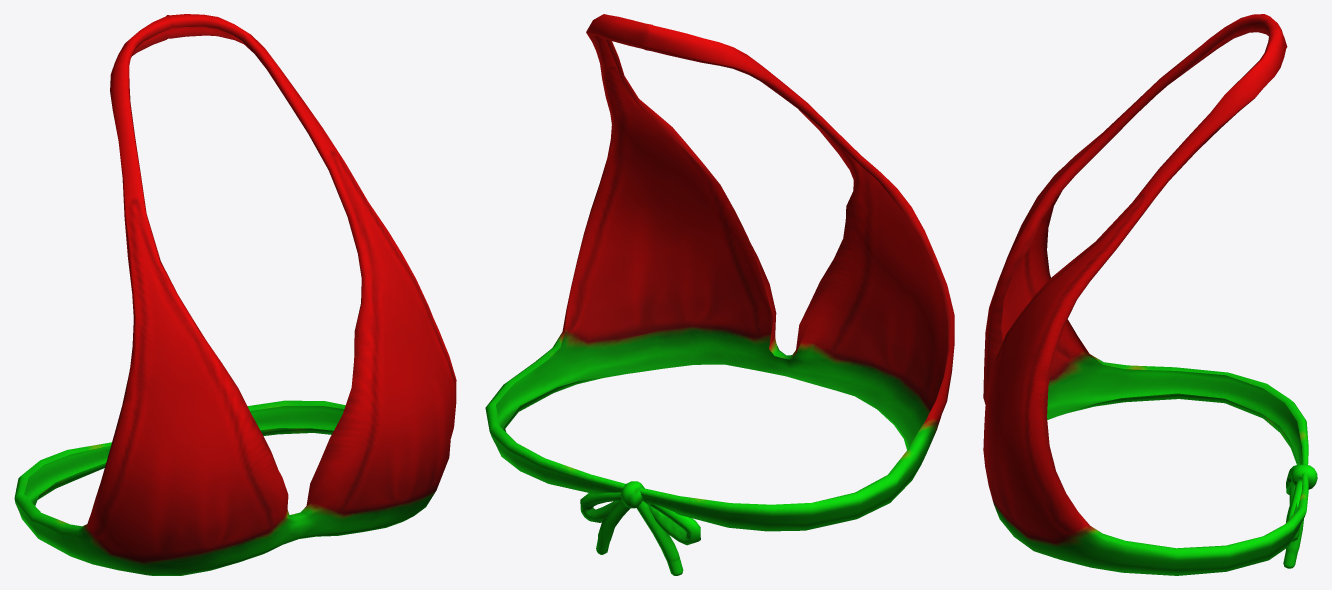
File: Top_Bakini_ChestFit.obj
3 renders of one model, left to right at view 1: azimuth 30°, elevation 25°; view 2: azimuth 150°, elevation 25°; view 3: azimuth 270°, elevation 25°, orthographic. The views are drawn at different scales.
Visible parts, largest first — view 1: Top_Bakini_ChestFit_0; view 2: Top_Bakini_ChestFit_0; view 3: Top_Bakini_ChestFit_0.
Boxes of the visible parts, <box> form: Top_Bakini_ChestFit_0: <box>14,14,456,575</box>; Top_Bakini_ChestFit_0: <box>485,14,954,575</box>; Top_Bakini_ChestFit_0: <box>983,14,1317,575</box>.
Bounding box in the file's own units: 0.2512 × 0.3282 × 0.1901.
1 material, 1 textured.
